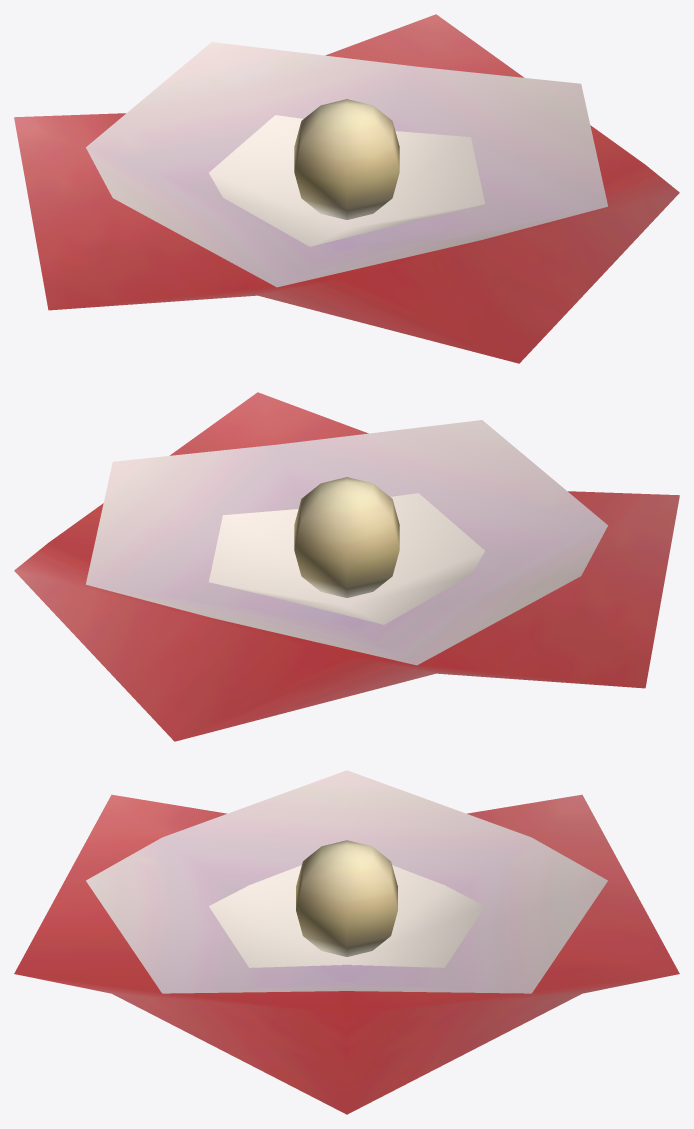
The model's file is LotusFlower.fbx.
3 views of the same model, one above another, from view 1: azimuth 30°, elevation 25°; view 2: azimuth 150°, elevation 25°; view 3: azimuth 270°, elevation 25° (orthographic). The views are drawn at different scales.
Parts seen in each view (by area): view 1: LotusFlower; view 2: LotusFlower; view 3: LotusFlower.
Part boxes in pixels (x1,y1,x2,y2): LotusFlower: [14, 14, 679, 363]; LotusFlower: [14, 392, 679, 741]; LotusFlower: [14, 770, 679, 1114].
Bounding box in the file's own units: 231 × 64.32 × 231.
1 material, 1 textured.
